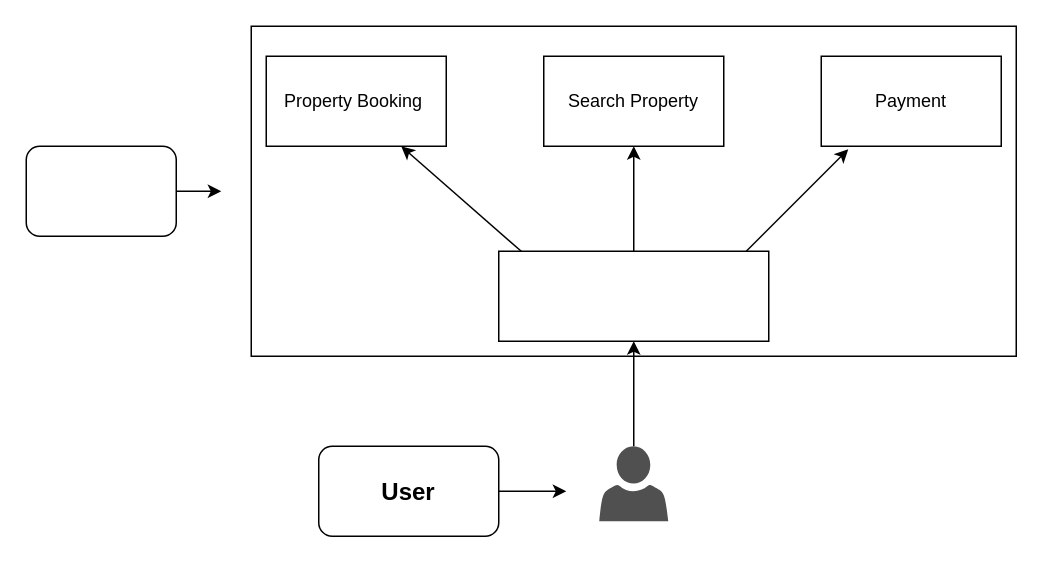
Image size: 1043x563. Some labels were removed from this diagram. The shapes that lost their labels are listed below. From the top down, each one's centre as x and y in pixels, then its label:
At point 100,190: "System".
At point 633,295: "user registration".
